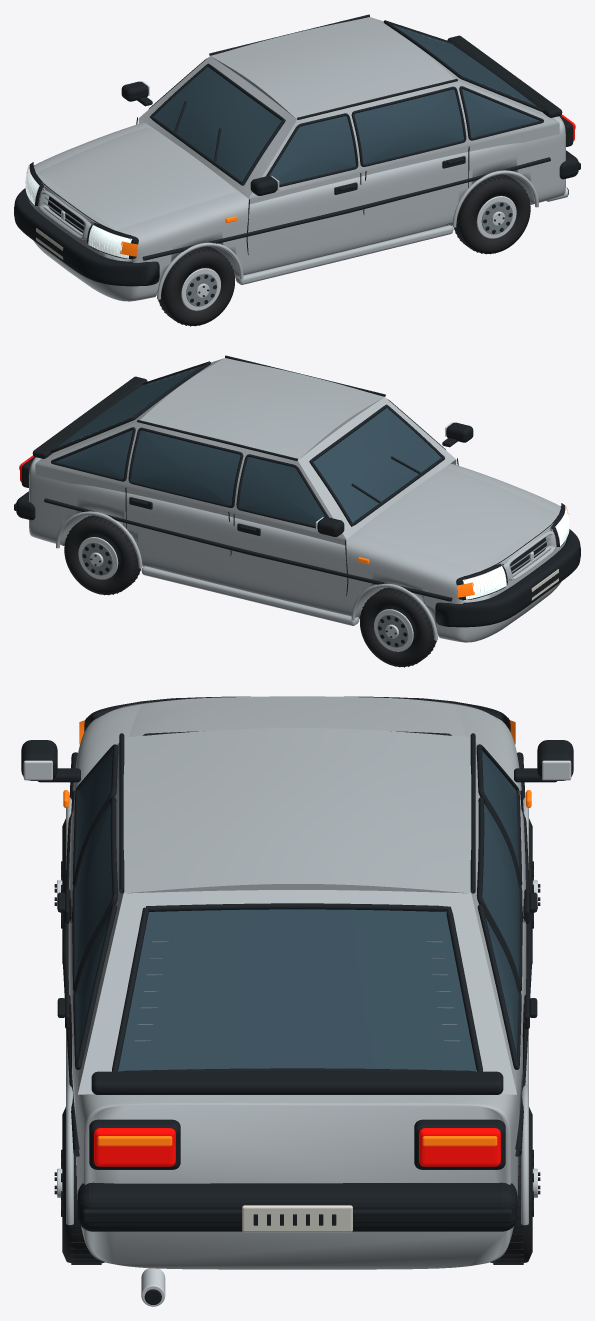
The model's file is nine.glb.
The picture shows the model from 3 angles, top to bottom: view 1: azimuth 30°, elevation 25°; view 2: azimuth 150°, elevation 25°; view 3: azimuth 270°, elevation 25°; orthographic projection. The views are drawn at different scales.
Parts seen in each view (by area): view 1: Body_Paint_nine, Body_Curved smoked glass.004, Body_Black trim.004, StockBumpers_Black trim.004, Wheel_RR_Tyre.004, Wheel_FR_Tyre.004, StockSkirts_Paint_nine, StockSpoiler_Black trim.004, StockFenders_Paint_nine, Body_Prismatic headlight glass.004, Wheel_RR_Machined aluminium.004, Wheel_FR_Machined aluminium.004 (+4 smaller); view 2: Body_Paint_nine, Body_Curved smoked glass.004, Body_Black trim.004, StockBumpers_Black trim.004, Wheel_RL_Tyre.004, Wheel_FL_Tyre.004, StockSkirts_Paint_nine, StockSpoiler_Black trim.004, StockFenders_Paint_nine, Body_Prismatic headlight glass.004, Wheel_RL_Machined aluminium.004, Wheel_FL_Machined aluminium.004 (+4 smaller); view 3: Body_Paint_nine, Body_Curved smoked glass.004, Body_Black trim.004, StockBumpers_Black trim.004, StockSpoiler_Black trim.004, Body_Red lens.004, Body_Numberplate.004, StockFenders_Paint_nine, Body_Amber lens.004, Body_Machined aluminium.004, Wheel_RR_Tyre.004, Wheel_RL_Tyre.004.
Boxes of the visible parts, box(x1,y1,x2,y2) form: Body_Paint_nine: box(28, 17, 565, 301); Body_Curved smoked glass.004: box(153, 24, 539, 184); Body_Black trim.004: box(27, 14, 573, 260); StockBumpers_Black trim.004: box(14, 150, 580, 286); Wheel_RR_Tyre.004: box(454, 174, 530, 253); Wheel_FR_Tyre.004: box(158, 246, 234, 325); StockSkirts_Paint_nine: box(236, 225, 453, 284); StockSpoiler_Black trim.004: box(447, 35, 562, 117); StockFenders_Paint_nine: box(157, 170, 538, 299); Body_Prismatic headlight glass.004: box(25, 165, 132, 258); Wheel_RR_Machined aluminium.004: box(476, 196, 516, 238); Wheel_FR_Machined aluminium.004: box(181, 268, 220, 310); Body_Paint_nine: box(29, 358, 566, 642); Body_Curved smoked glass.004: box(55, 365, 441, 525); Body_Black trim.004: box(21, 355, 567, 601); StockBumpers_Black trim.004: box(14, 491, 580, 627); Wheel_RL_Tyre.004: box(64, 515, 140, 594); Wheel_FL_Tyre.004: box(360, 587, 436, 666); StockSkirts_Paint_nine: box(141, 566, 358, 625); StockSpoiler_Black trim.004: box(32, 376, 147, 458); StockFenders_Paint_nine: box(56, 511, 437, 640); Body_Prismatic headlight glass.004: box(462, 506, 569, 599); Wheel_RL_Machined aluminium.004: box(78, 537, 118, 579); Wheel_FL_Machined aluminium.004: box(374, 609, 413, 651); Body_Paint_nine: box(68, 696, 526, 1269); Body_Curved smoked glass.004: box(75, 750, 519, 1071); Body_Black trim.004: box(21, 696, 573, 1304); StockBumpers_Black trim.004: box(77, 1182, 517, 1231); StockSpoiler_Black trim.004: box(91, 1071, 503, 1094); Body_Red lens.004: box(94, 1128, 500, 1166); Body_Numberplate.004: box(242, 1205, 352, 1232); StockFenders_Paint_nine: box(66, 795, 528, 1225); Body_Amber lens.004: box(63, 720, 531, 1146); Body_Machined aluminium.004: box(23, 760, 571, 1306); Wheel_RR_Tyre.004: box(62, 1107, 104, 1263); Wheel_RL_Tyre.004: box(490, 1107, 532, 1263).
Bounding box in the file's own units: 4.01 × 1.4 × 1.99.
